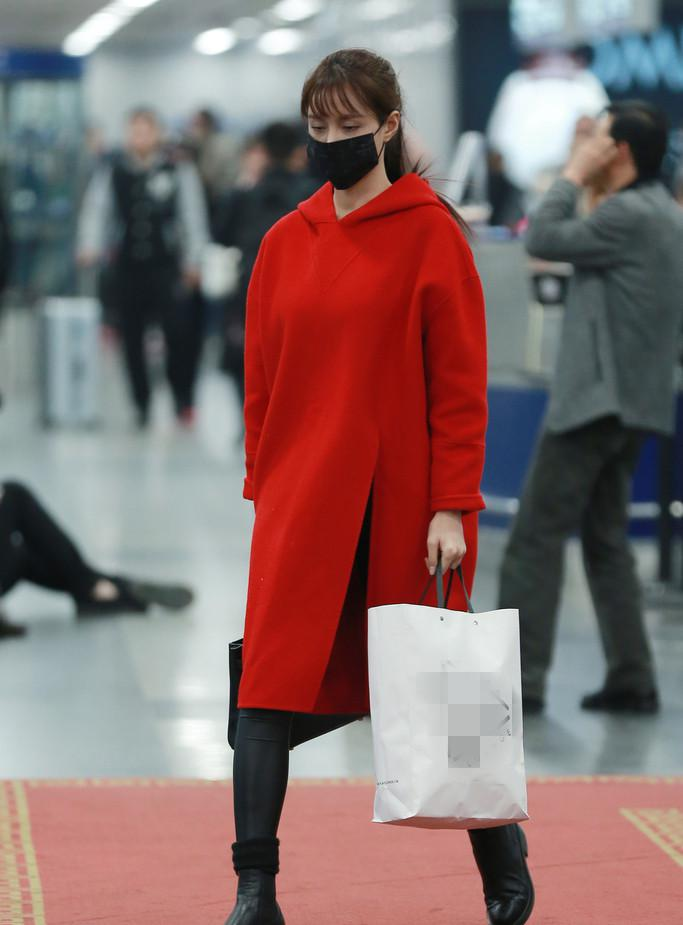OK: (305, 109, 384, 188)
